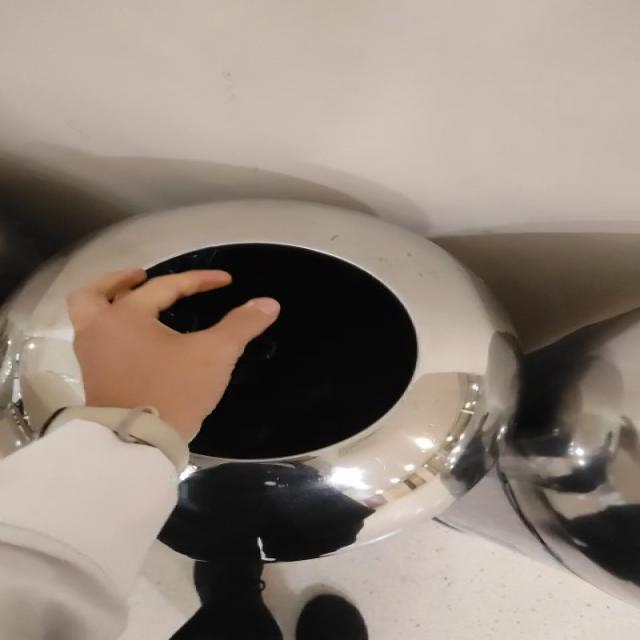Bin: (0, 200, 519, 548)
